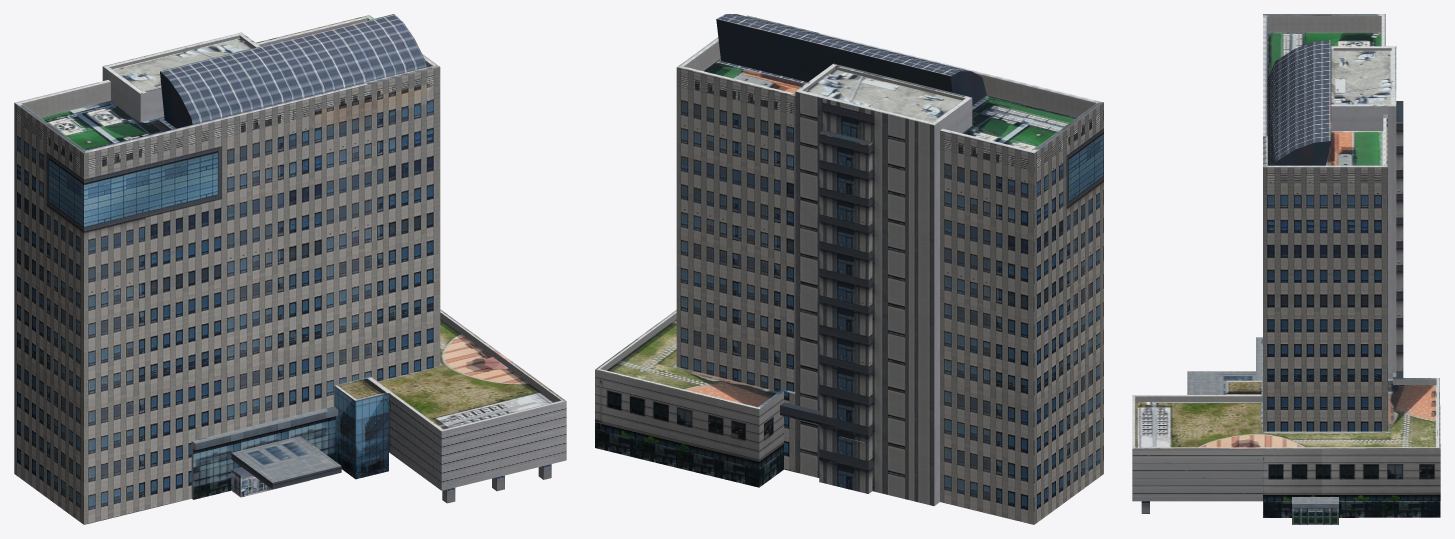
3 views of the same model, side by side, from view 1: azimuth 30°, elevation 25°; view 2: azimuth 150°, elevation 25°; view 3: azimuth 270°, elevation 25° (orthographic). The views are drawn at different scales.
Visible parts, largest first — view 1: MainBuilding; view 2: MainBuilding; view 3: MainBuilding.
Boxes of the visible parts, x1,y1,x2,y2 form: MainBuilding: (14,14,566,524); MainBuilding: (595,14,1103,524); MainBuilding: (1132,14,1440,524).
Size of the model in its own units: 6.72 by 6.01 by 4.78.
1 material, 1 textured.
